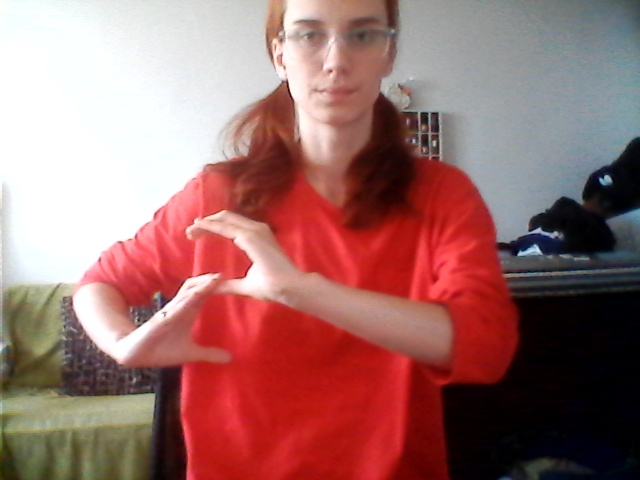s: (132, 198, 285, 386)
